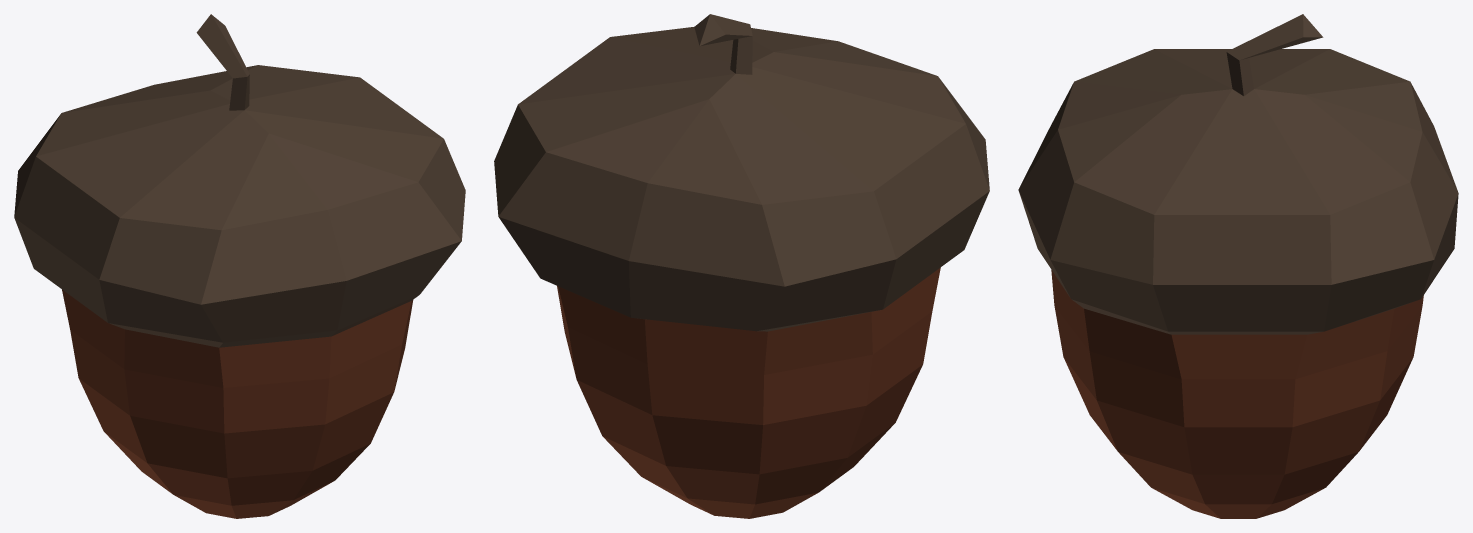
File: nut_basic.fbx
The picture shows the model from 3 angles, left to right: view 1: azimuth 30°, elevation 25°; view 2: azimuth 150°, elevation 25°; view 3: azimuth 270°, elevation 25°; orthographic projection. The views are drawn at different scales.
Visible parts, largest first — view 1: Nut; view 2: Nut; view 3: Nut.
Part boxes in pixels (x1,y1,x2,y2): Nut: [14, 14, 465, 518]; Nut: [494, 14, 989, 518]; Nut: [1018, 14, 1458, 518].
Bounding box in the file's own units: 222 × 278 × 220.
